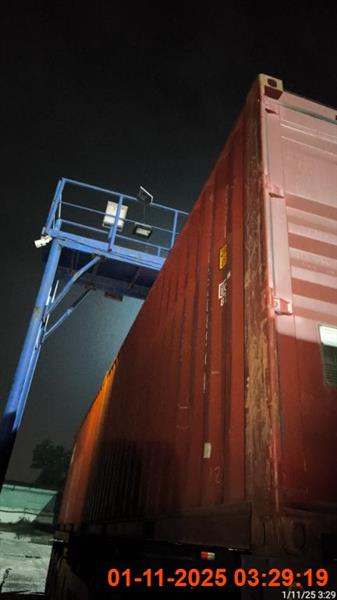broken: (43, 74, 335, 598)
